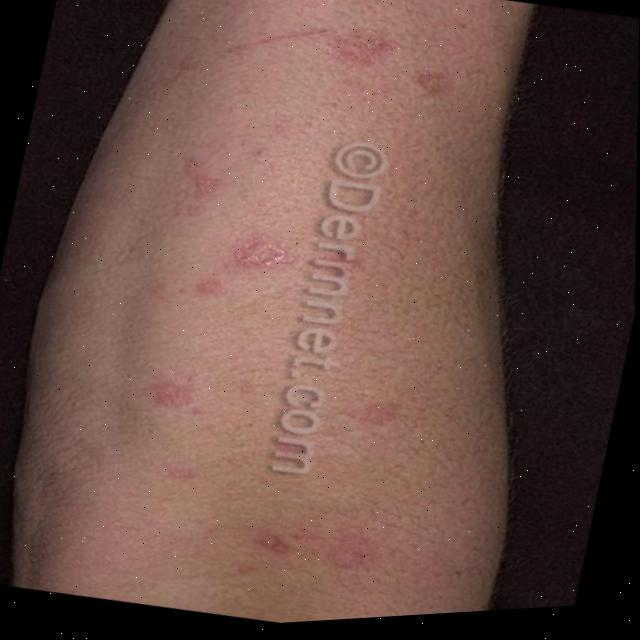Eczema: (102, 0, 482, 594)
